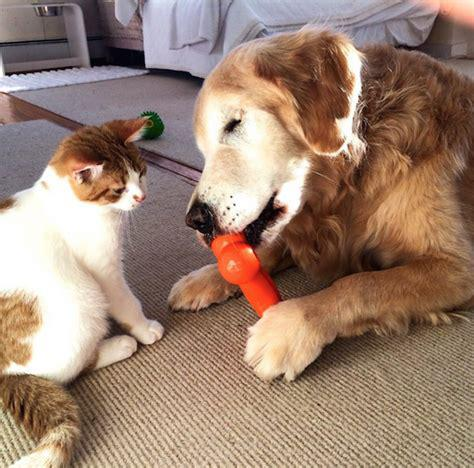dog: (168, 26, 474, 379), (1, 116, 162, 468)
